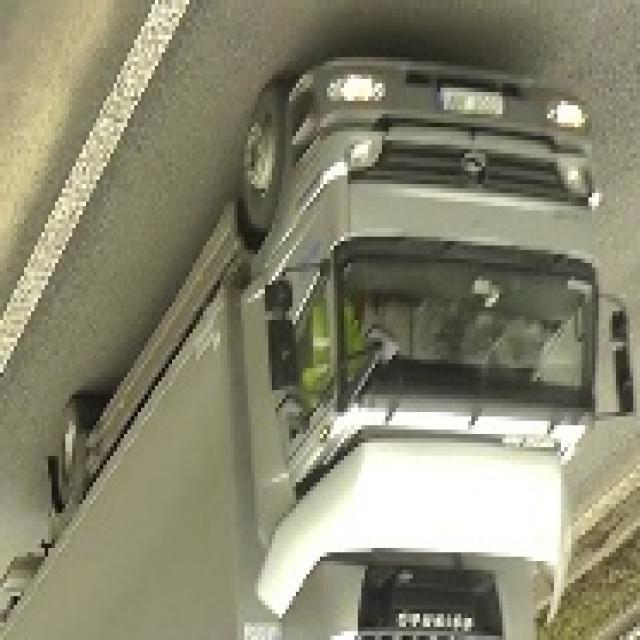truck: (4, 57, 634, 640)
